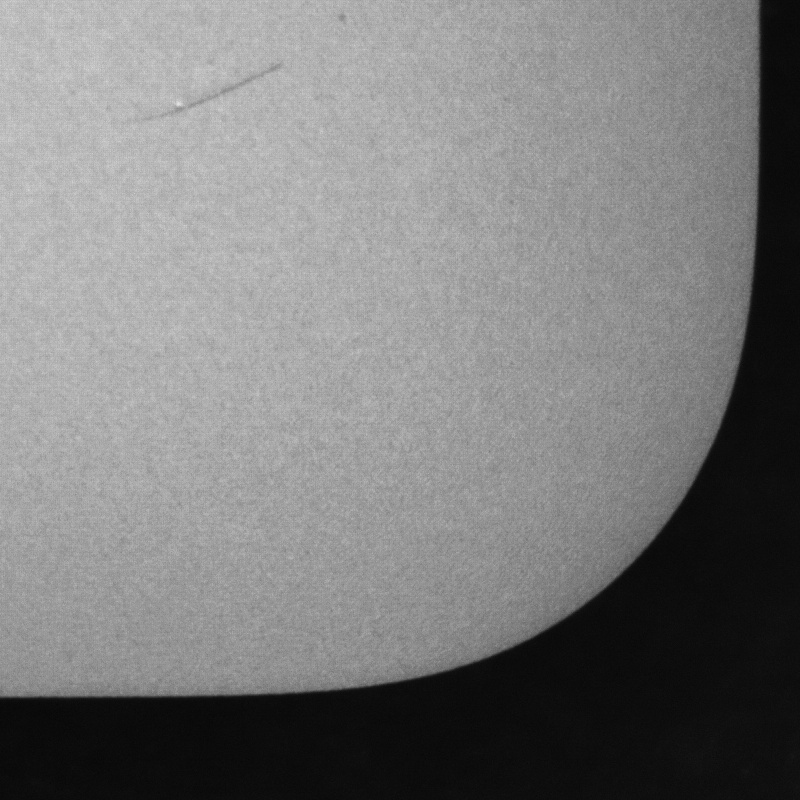defect: (116, 64, 286, 133), (330, 12, 354, 22)
